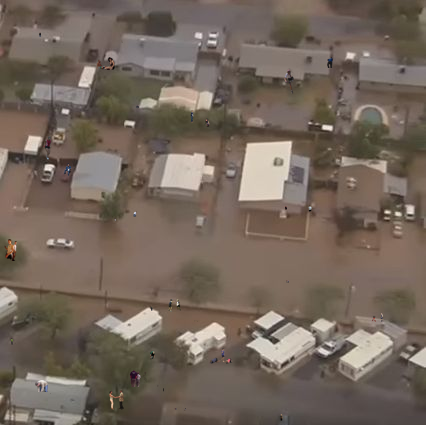Human: (129, 370, 159, 387), (190, 109, 218, 127), (284, 68, 303, 94), (109, 389, 132, 410), (209, 348, 233, 364), (4, 239, 17, 261), (53, 162, 72, 176), (96, 57, 115, 70), (43, 136, 52, 160), (168, 299, 181, 312), (35, 380, 48, 392), (372, 313, 383, 322), (327, 57, 333, 68), (31, 32, 41, 37), (150, 351, 155, 360), (308, 205, 312, 215), (174, 408, 186, 411), (133, 211, 137, 217), (280, 414, 283, 422), (150, 306, 153, 311), (11, 338, 13, 345), (194, 320, 199, 322), (136, 105, 139, 108), (286, 280, 289, 283), (285, 206, 287, 210), (114, 218, 116, 221), (121, 40, 123, 43), (163, 388, 164, 392), (50, 393, 51, 394)
